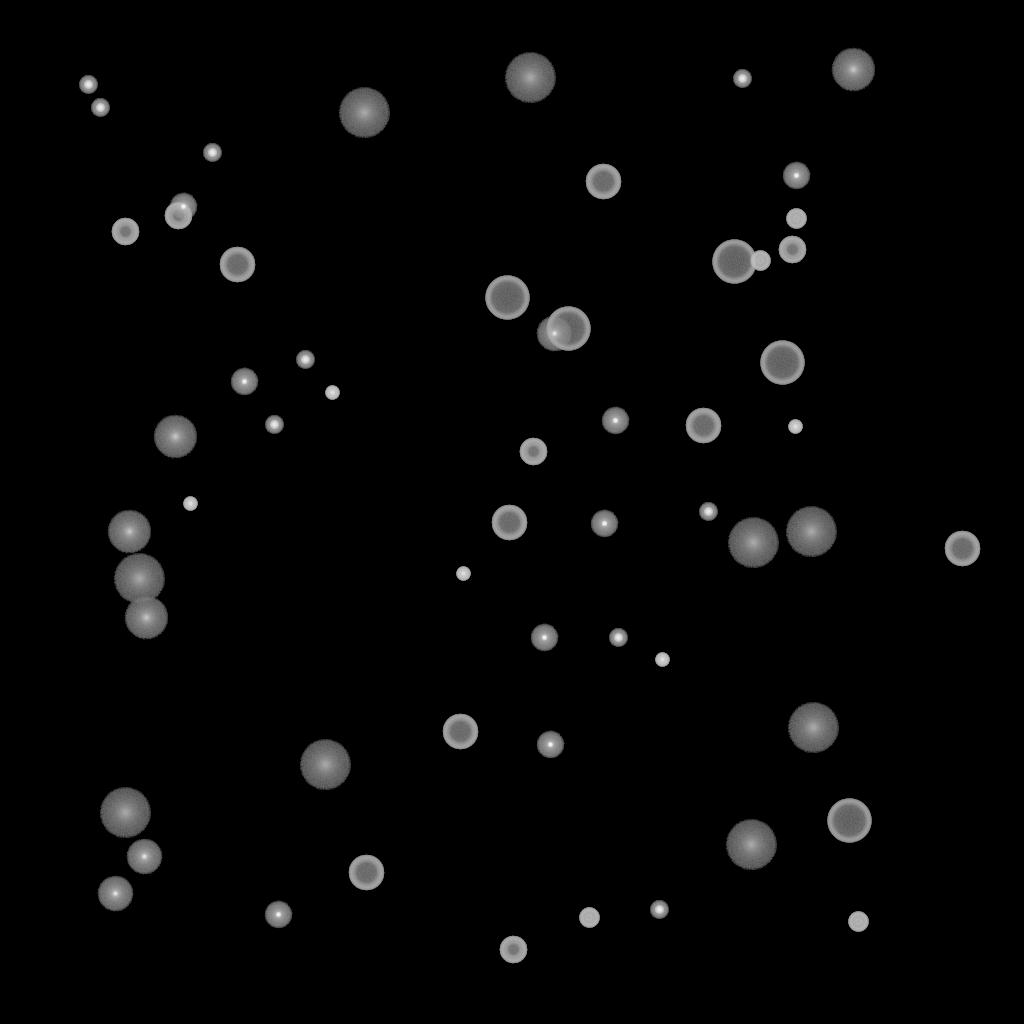depth:-10: (530, 624, 558, 652), (601, 407, 629, 435), (536, 731, 564, 759), (169, 193, 197, 221), (264, 901, 292, 929), (590, 510, 618, 538), (782, 162, 810, 190), (230, 368, 258, 396)
depth:-20: (609, 629, 627, 647), (699, 503, 717, 521), (265, 416, 283, 434), (203, 144, 221, 162), (79, 76, 97, 94), (650, 901, 668, 919), (733, 70, 751, 88), (296, 351, 314, 369), (91, 99, 109, 117)
depth:-30: (183, 497, 197, 511), (456, 567, 470, 581), (655, 653, 669, 667), (788, 420, 802, 434), (325, 386, 339, 400)
depth:-40: (579, 908, 599, 928), (786, 209, 806, 229), (750, 251, 770, 271), (848, 912, 868, 932)
depth:-50: (164, 202, 192, 230), (499, 936, 527, 964), (519, 438, 547, 466), (111, 218, 139, 246), (778, 236, 806, 264)
depth:-60: (491, 505, 527, 541), (442, 714, 478, 750), (685, 408, 721, 444), (585, 164, 621, 200), (219, 247, 255, 283), (944, 531, 980, 567), (348, 855, 384, 891)
depth:-70: (760, 341, 804, 385), (485, 276, 529, 320), (827, 799, 871, 843), (546, 307, 590, 351), (712, 240, 756, 284)
depth:0: (536, 316, 572, 352), (126, 839, 162, 875), (97, 876, 133, 912)
depth:10: (124, 596, 168, 640), (107, 510, 151, 554), (153, 415, 197, 459), (831, 48, 875, 92)
depth:20: (99, 788, 151, 838), (504, 53, 556, 103), (299, 740, 351, 790), (725, 820, 777, 870), (113, 554, 165, 604), (785, 507, 837, 557), (727, 518, 779, 568), (787, 703, 839, 753), (338, 88, 390, 138)
